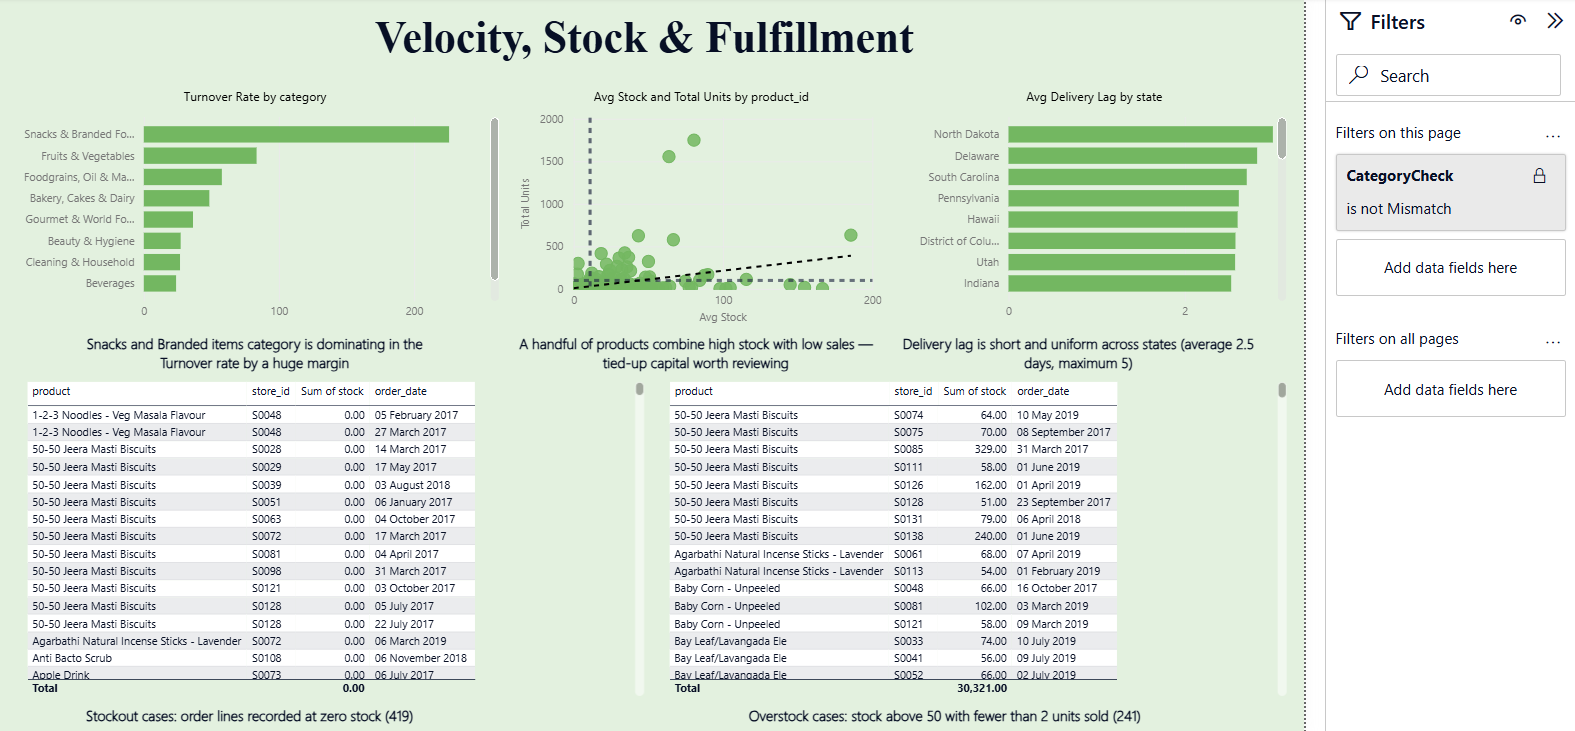

What the dashboard file says about the page in this screenshot:
{"tool":"powerbi","page":{"name":"Velocity & Stock","canvas":[1280,720],"ordinal":6},"visuals":[{"type":"textbox","box":[283.2,10.1,700.8,60.7],"z":0},{"type":"barChart","fields":{"Category":["Products.category"],"Y":["Sales.Turnover Rate"]},"box":[10,88.9,487.5,235.1],"z":1000},{"type":"scatterChart","fields":{"X":["Sales.Avg Stock"],"Y":["Sales.Total Units"],"Category":["Products.product_id"]},"box":[509,88.9,362.7,235.1],"z":2000},{"type":"tableEx","fields":{"Values":["Products.product","Stores.store_id","Sum(Sales.stock)","Sales.order_date"]},"box":[24.7,371.9,614.8,317],"z":3000},{"type":"tableEx","fields":{"Values":["Products.product","Stores.store_id","Sum(Sales.stock)","Sales.order_date"]},"box":[653.2,371.9,614.8,317],"z":4000},{"type":"barChart","fields":{"Y":["Sales.Avg Delivery Lag"],"Category":["Stores.state"]},"box":[881.7,88.9,385.7,235.1],"z":5000},{"type":"textbox","box":[497.5,324,374.2,47.3],"z":6000},{"type":"textbox","box":[871.7,324,374.2,47.3],"z":7000},{"type":"textbox","box":[66,324,374.2,47.3],"z":8000},{"type":"textbox","box":[24.7,688.9,447.3,31.6],"z":9000},{"type":"textbox","box":[702.6,688.9,450.1,31.6],"z":10000}]}

Visuals, with their boxes on the page's 1280x720 design canvas (x1, y1, x2, y2). These are canvas units, not pixel positions in the 1575x731 screenshot, which may show the page scaled, cropped or inside an application window:
textbox: box(283, 10, 984, 71)
barChart - Products.category x Sales.Turnover Rate: box(10, 89, 498, 324)
scatterChart - Sales.Avg Stock x Sales.Total Units: box(509, 89, 872, 324)
tableEx - Products.product x Stores.store_id: box(25, 372, 640, 689)
tableEx - Products.product x Stores.store_id: box(653, 372, 1268, 689)
barChart - Sales.Avg Delivery Lag x Stores.state: box(882, 89, 1267, 324)
textbox: box(498, 324, 872, 371)
textbox: box(872, 324, 1246, 371)
textbox: box(66, 324, 440, 371)
textbox: box(25, 689, 472, 720)
textbox: box(703, 689, 1153, 720)
